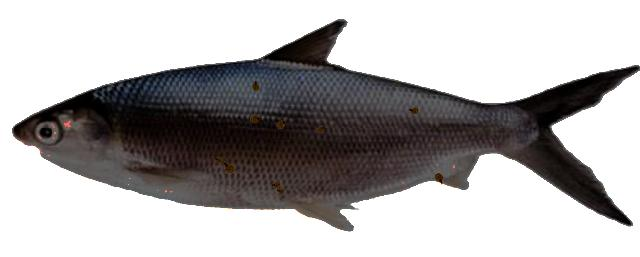Parasitic Disease: (14, 21, 637, 230), (14, 21, 637, 229)
